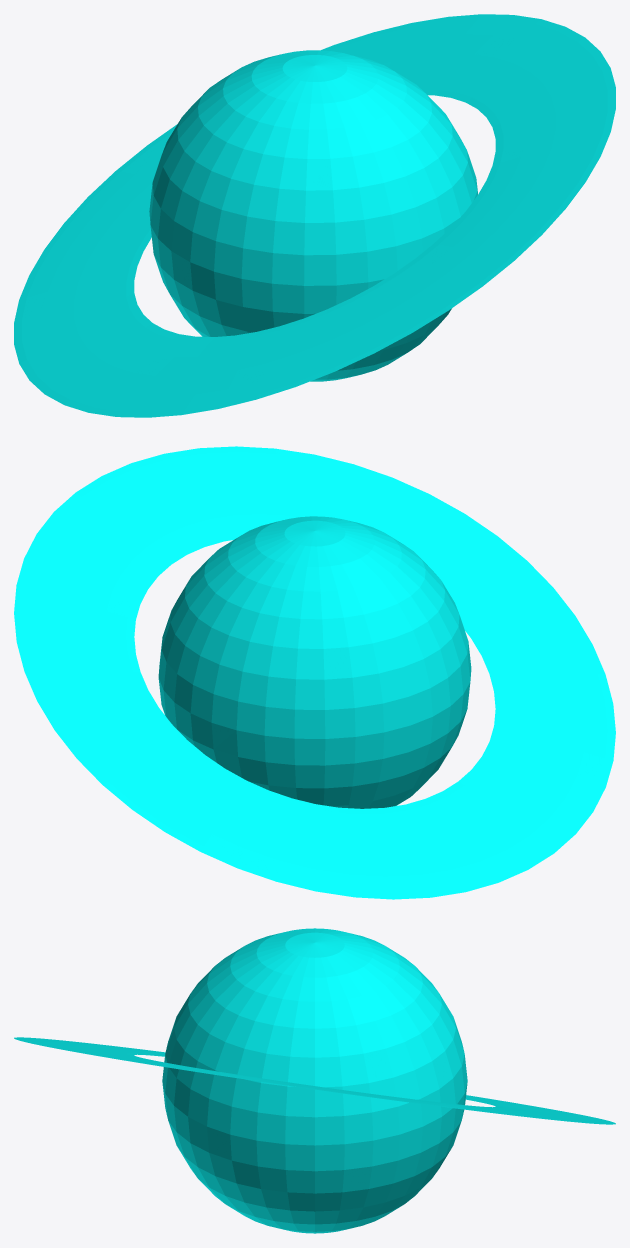
File: planet.obj
3 renders of one model, top to bottom at view 1: azimuth 30°, elevation 25°; view 2: azimuth 150°, elevation 25°; view 3: azimuth 270°, elevation 25°, orthographic. The views are drawn at different scales.
Visible parts, largest first — view 1: Torus, Sphere; view 2: Torus, Sphere; view 3: Sphere, Torus.
Part boxes in pixels (x1,y1,x2,y2): Torus: [14, 14, 615, 417]; Sphere: [149, 50, 477, 381]; Torus: [14, 446, 615, 899]; Sphere: [158, 516, 471, 808]; Sphere: [162, 928, 467, 1233]; Torus: [14, 1037, 615, 1124].
Bounding box in the file's own units: 293 × 160 × 315.
